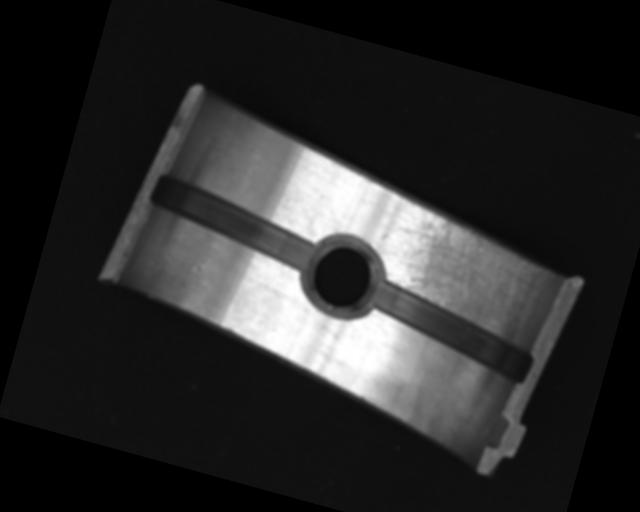gap: (360, 276, 546, 388), (140, 171, 320, 271)
hole: (298, 235, 391, 322)
scratch: (380, 203, 565, 350)
